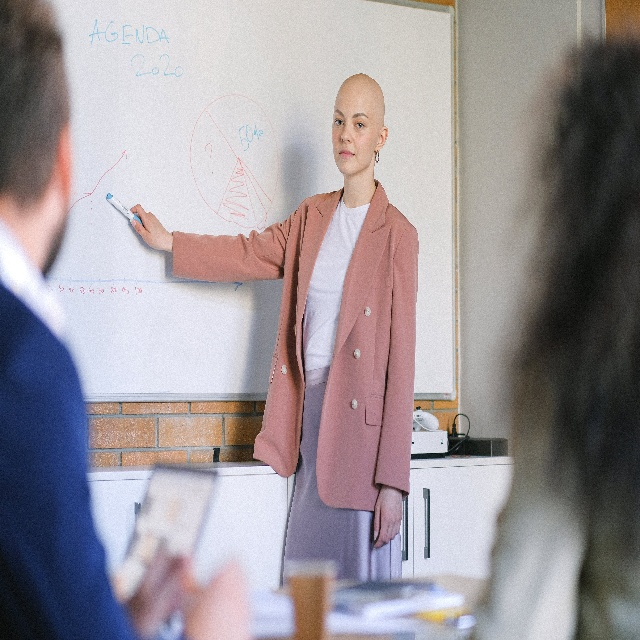Sin_guantes: (372, 483, 406, 549), (130, 205, 173, 253)
